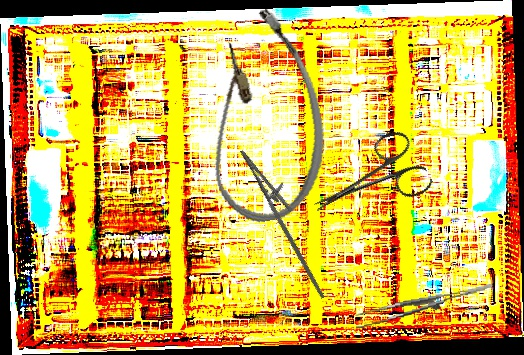Cannula: (186, 2, 339, 230)
Iris Scissors: (300, 125, 436, 240)
Needle Holder: (222, 141, 353, 300)
Tissue Forceps: (352, 283, 496, 329)
